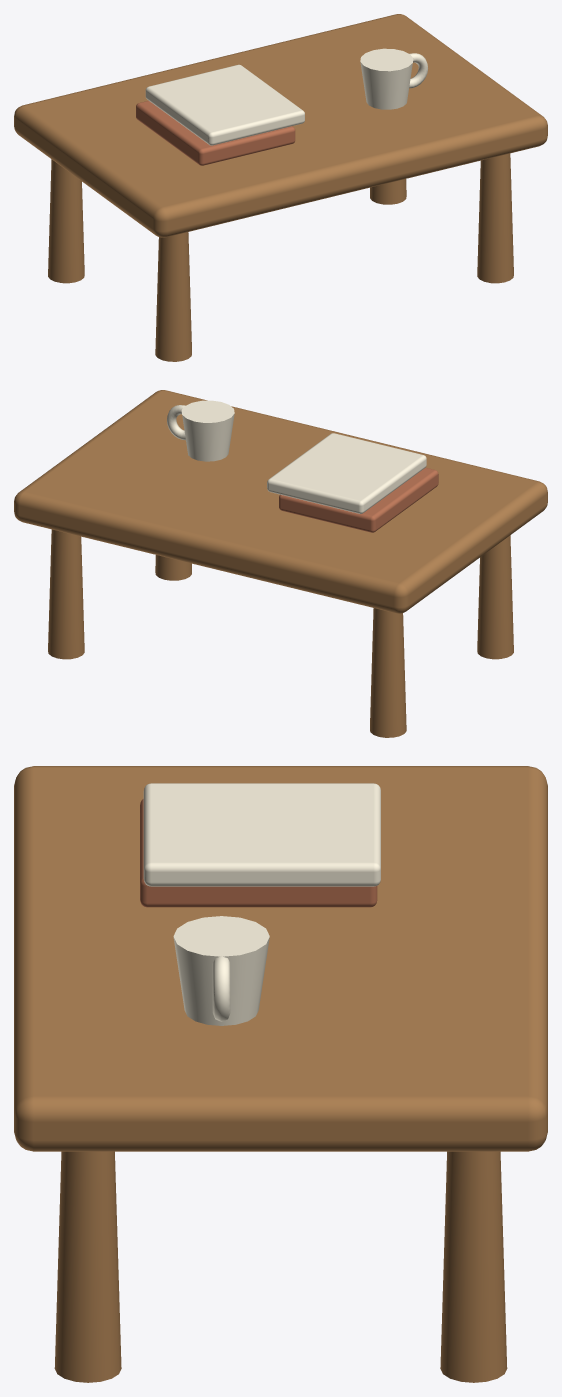
File: coffee-table.glb
3 views of the same model, one above another, from view 1: azimuth 30°, elevation 25°; view 2: azimuth 150°, elevation 25°; view 3: azimuth 270°, elevation 25° (orthographic). The views are drawn at different scales.
Parts seen in each view (by area): view 1: top, leg (×4), book (×2), cup; view 2: top, leg (×4), book (×2), cup; view 3: top, book (×2), leg (×2), cup, handle.
Boxes of the visible parts, box(x1,y1,x2,y2) form: top: box(14, 14, 547, 237); leg (×4): box(48, 153, 513, 361); book (×2): box(136, 64, 304, 165); cup: box(360, 48, 413, 109); top: box(14, 390, 547, 613); leg (×4): box(48, 529, 513, 737); book (×2): box(267, 433, 438, 532); cup: box(181, 400, 234, 461); top: box(14, 766, 547, 1151); book (×2): box(140, 783, 380, 907); leg (×2): box(54, 1151, 507, 1382); cup: box(173, 916, 269, 1025); handle: box(212, 955, 230, 1021).
Bounding box in the file's own units: 1.1 × 0.551 × 0.72.
